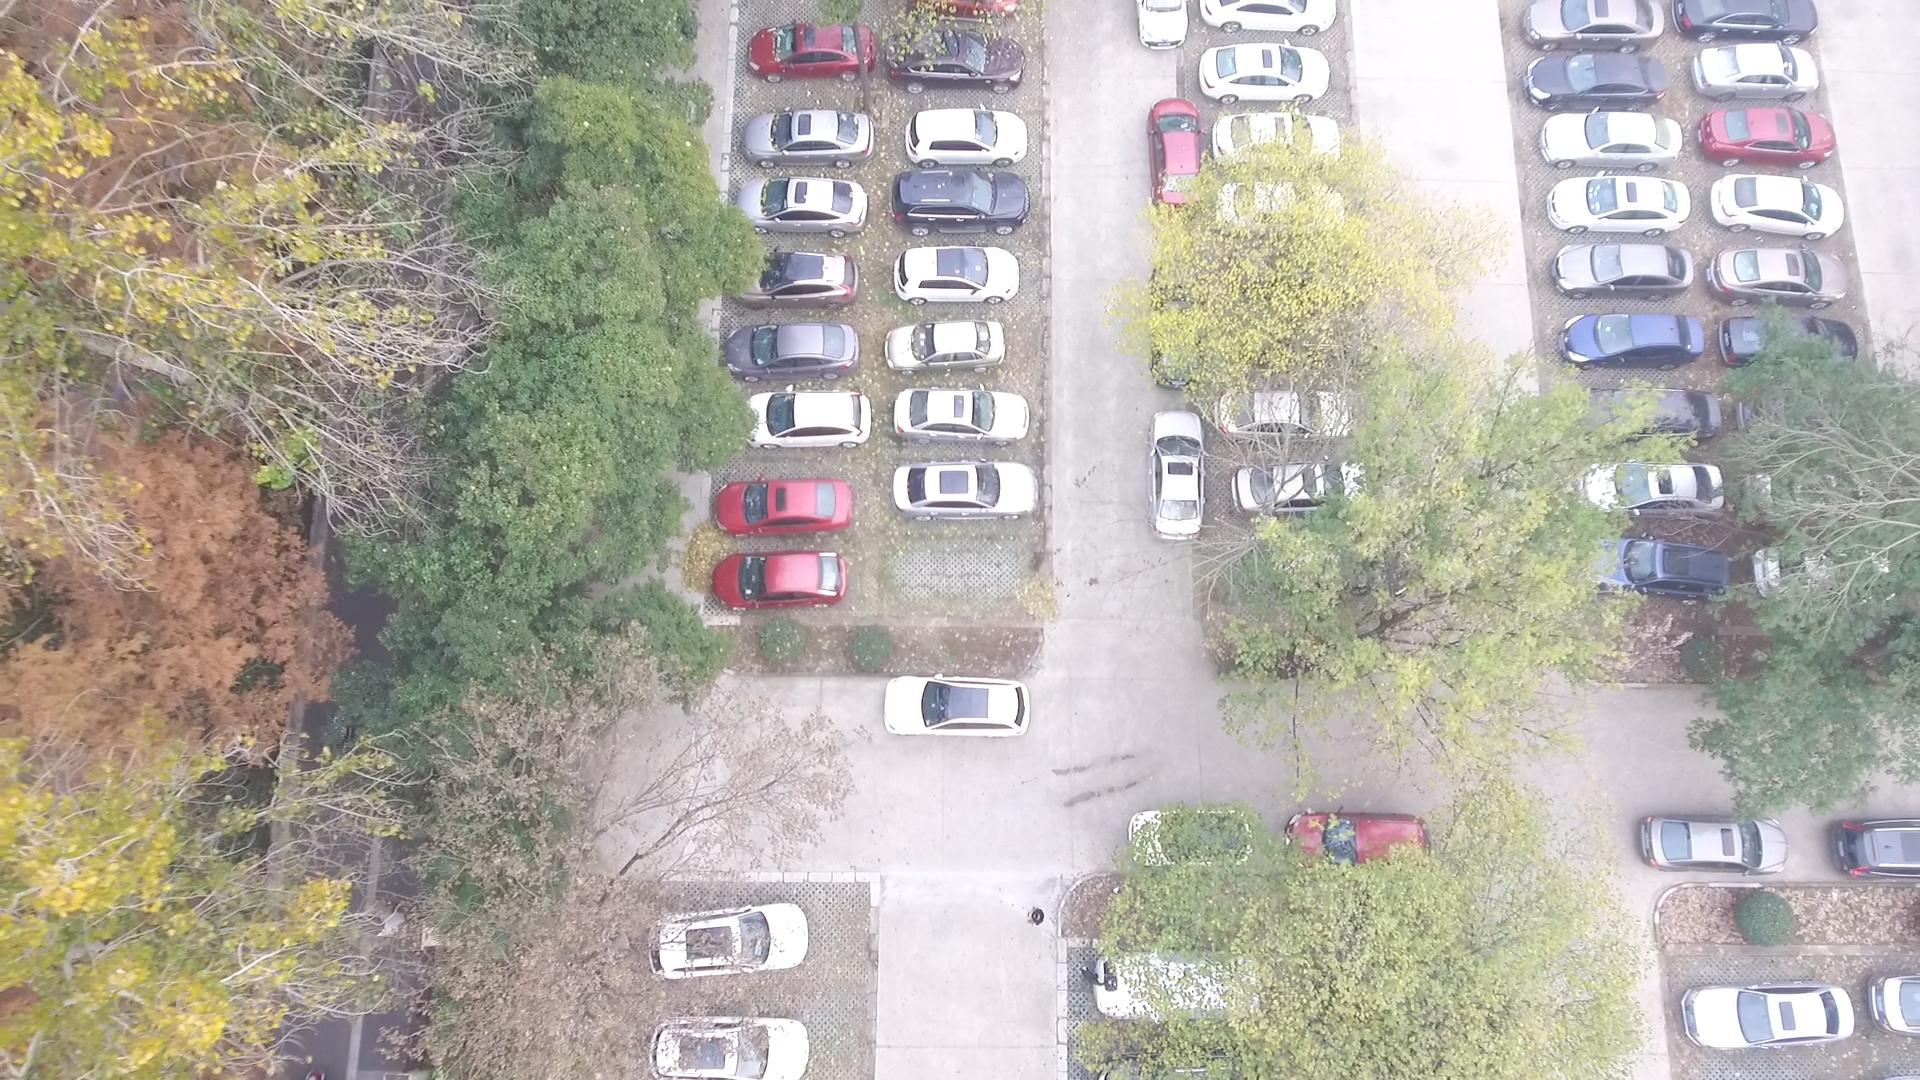Vehicle: (1092, 951, 1273, 1029), (646, 899, 808, 978), (1677, 981, 1855, 1052), (1282, 808, 1435, 880), (1578, 535, 1731, 603), (882, 673, 1034, 740), (884, 26, 1026, 98), (647, 1018, 810, 1080), (1753, 541, 1902, 607), (1639, 814, 1789, 877), (893, 167, 1033, 235), (1543, 175, 1692, 237), (1569, 462, 1727, 520), (1706, 247, 1851, 310), (1575, 386, 1721, 447), (895, 460, 1040, 521), (740, 388, 876, 452), (1696, 107, 1832, 171), (1712, 174, 1845, 239), (1542, 109, 1683, 170), (1551, 243, 1695, 302), (1557, 313, 1704, 371), (735, 177, 868, 240), (716, 553, 852, 615), (713, 477, 857, 535), (893, 386, 1029, 447), (723, 320, 858, 381), (740, 109, 876, 170), (1522, 51, 1667, 108), (1126, 806, 1255, 869), (746, 22, 878, 84), (1197, 44, 1331, 104), (891, 245, 1021, 307), (1716, 314, 1858, 369), (1230, 459, 1369, 516), (903, 105, 1030, 167), (1520, 1, 1664, 55), (1692, 44, 1821, 103), (732, 252, 860, 310), (1149, 410, 1205, 541), (1213, 179, 1344, 235), (1209, 112, 1340, 166), (1215, 390, 1352, 442), (882, 320, 1007, 375), (1149, 98, 1205, 216), (1671, 1, 1820, 44), (1834, 815, 1920, 884), (1197, 1, 1338, 36), (1866, 969, 1920, 1036), (1135, 1, 1192, 51)
